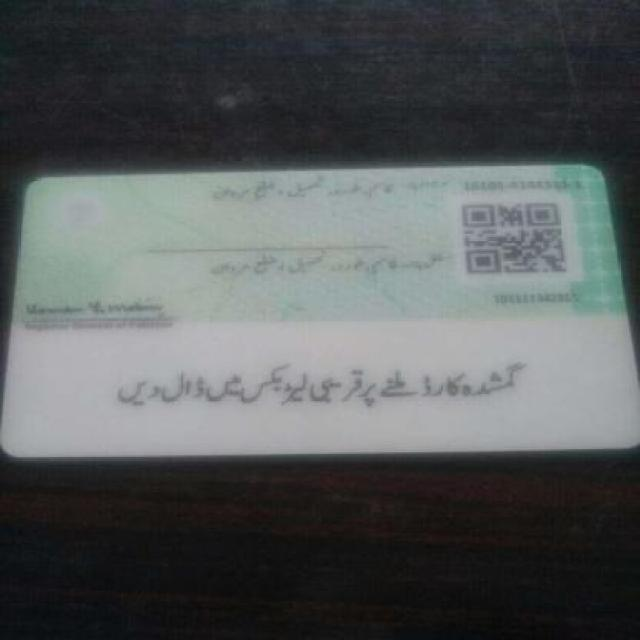Back: (8, 160, 632, 465)
